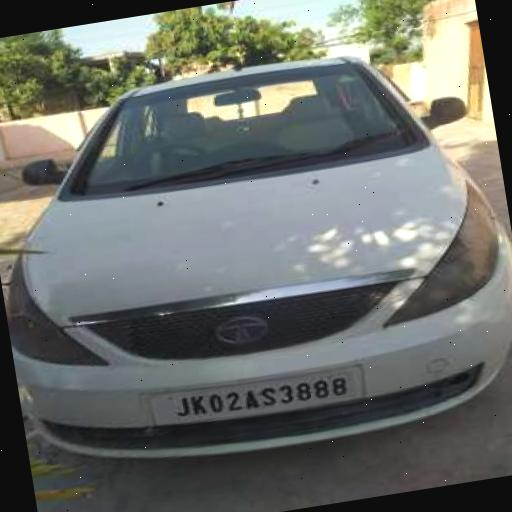license_plate`: (145, 364, 360, 431)
